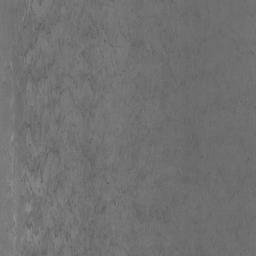Silk spot: (2, 0, 200, 256), (183, 221, 205, 256), (214, 96, 256, 114), (188, 134, 208, 158)
